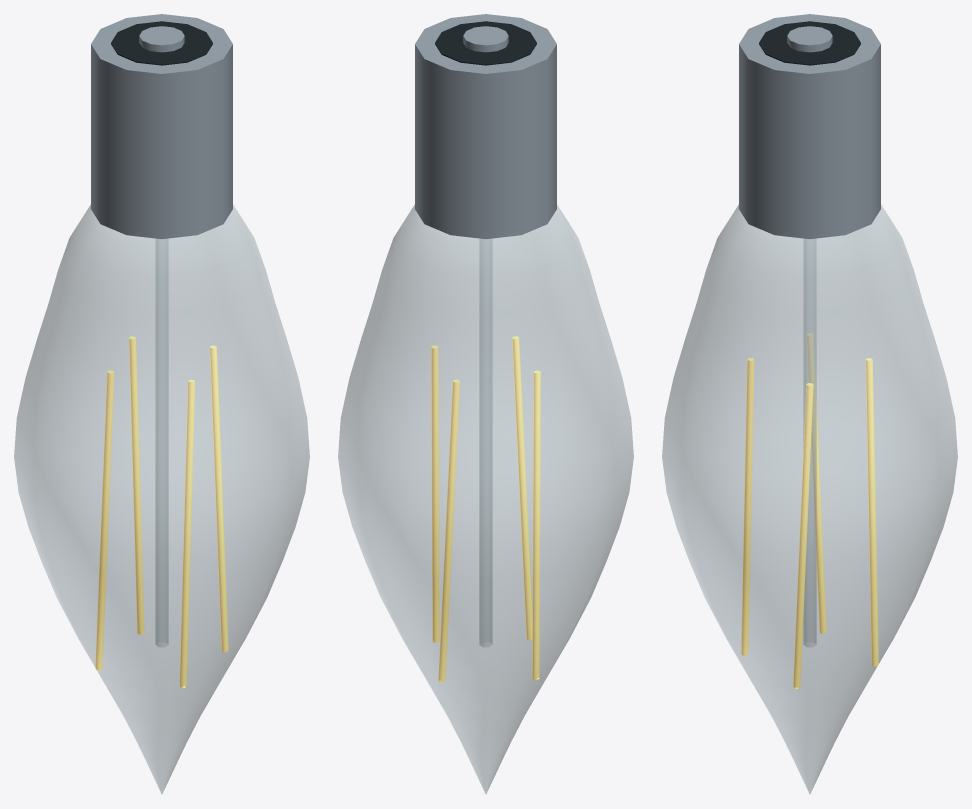
The model's file is source.glb.
3 renders of one model, left to right at view 1: azimuth 30°, elevation 25°; view 2: azimuth 150°, elevation 25°; view 3: azimuth 270°, elevation 25°, orthographic.
Parts seen in each view (by area): view 1: 光学透明件, 机加工金属, Emitters, 密封及绝缘件; view 2: 光学透明件, 机加工金属, Emitters, 密封及绝缘件; view 3: 光学透明件, 机加工金属, Emitters, 密封及绝缘件.
Part boxes in pixels (bbox=[...]): 光学透明件: bbox=[14, 205, 309, 793]; 机加工金属: bbox=[91, 14, 232, 239]; Emitters: bbox=[95, 336, 228, 687]; 密封及绝缘件: bbox=[111, 21, 212, 65]; 光学透明件: bbox=[338, 205, 633, 793]; 机加工金属: bbox=[415, 14, 556, 239]; Emitters: bbox=[431, 336, 540, 682]; 密封及绝缘件: bbox=[435, 21, 536, 65]; 光学透明件: bbox=[662, 205, 957, 793]; 机加工金属: bbox=[739, 14, 880, 239]; Emitters: bbox=[741, 333, 878, 688]; 密封及绝缘件: bbox=[759, 21, 860, 65].
Size of the model in its own units: 0.035 by 0.0991 by 0.035.
